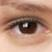eye: (19, 22, 37, 34)
